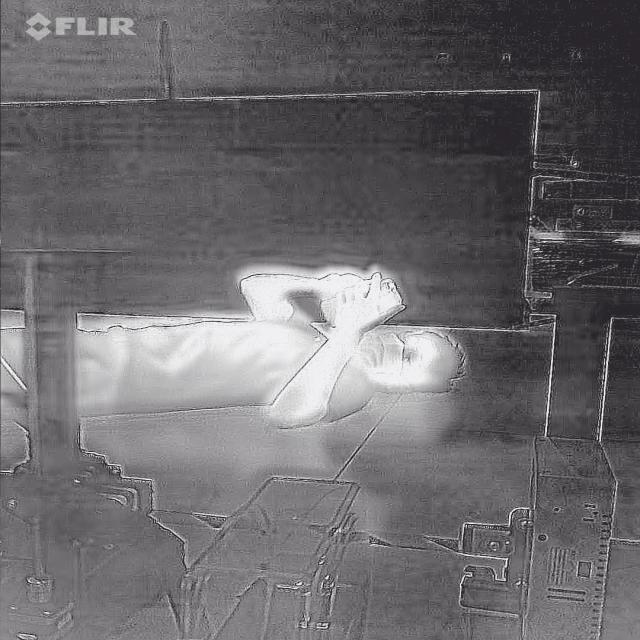Victim: (0, 256, 466, 426)
